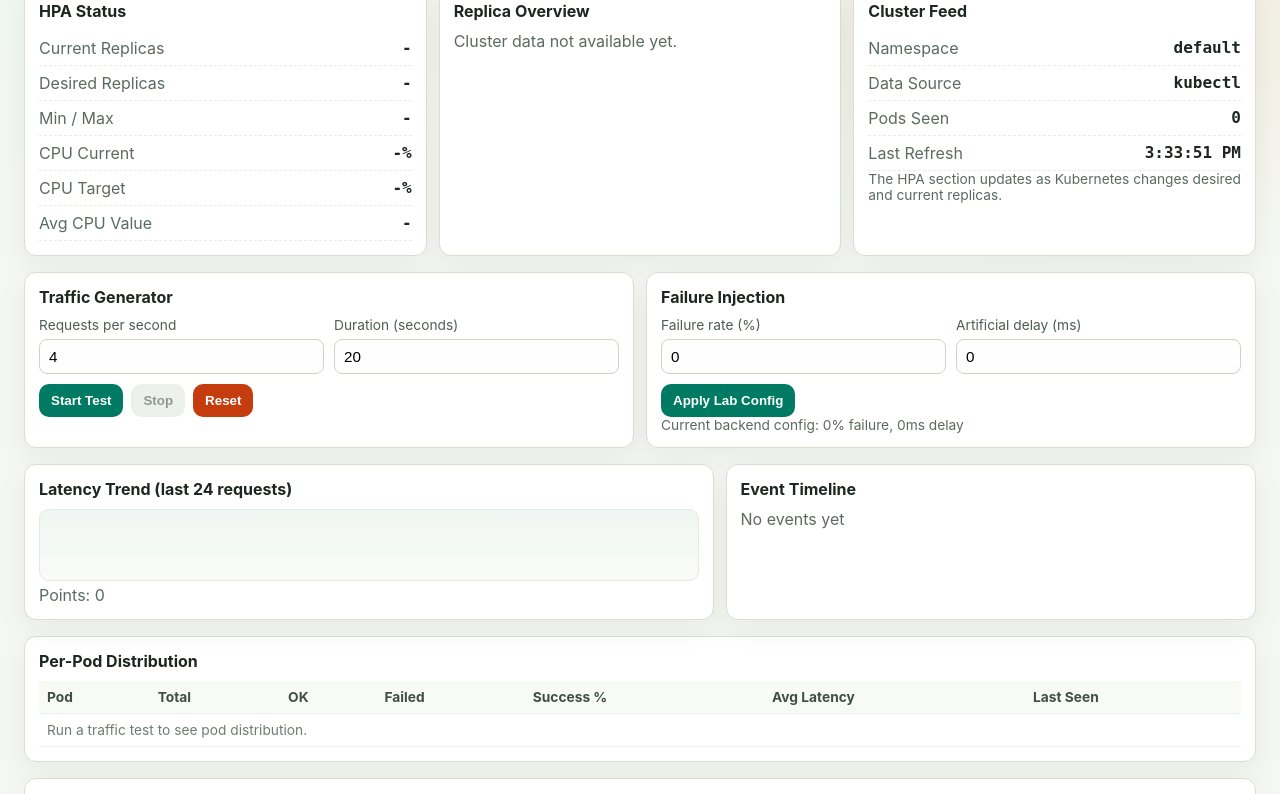
Test: App — event timeline › adds a traffic-start event when Start Test is clicked
The width and height of the screenshot is (1280, 794).
(page scrolled)
Click the button "Start Test": (81, 400) [39,384,124,417]
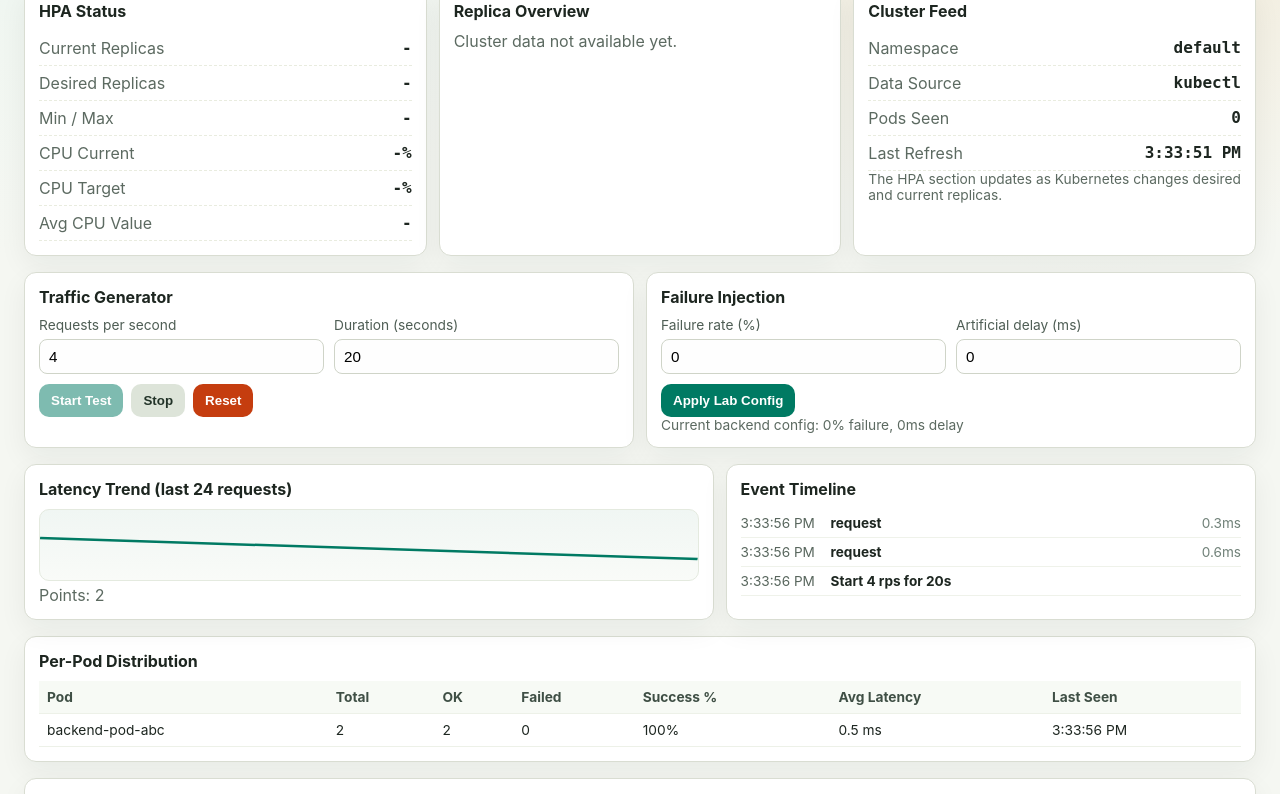
Now the text "No events yet" is gone
